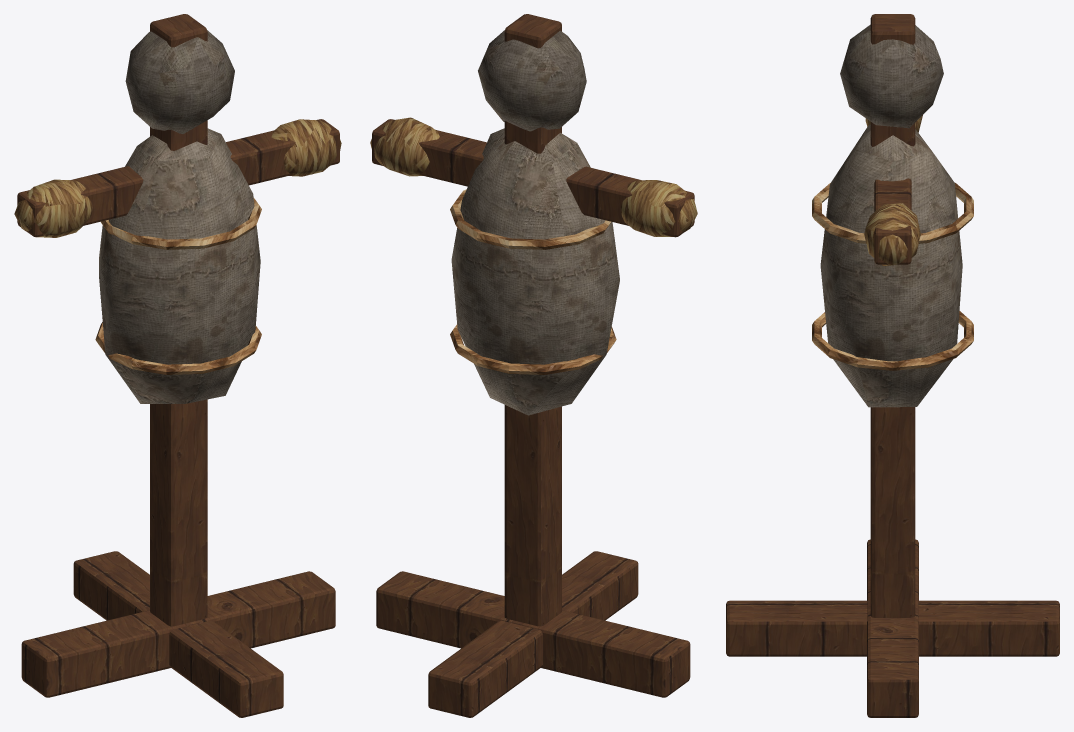
File: training_dummy__plank_root.glb
3 renders of one model, left to right at view 1: azimuth 30°, elevation 25°; view 2: azimuth 150°, elevation 25°; view 3: azimuth 270°, elevation 25°, orthographic.
Parts seen in each view (by area): view 1: model; view 2: model; view 3: model.
Part boxes in pixels (bbox=[...]): model: bbox=[14, 14, 341, 717]; model: bbox=[370, 14, 697, 717]; model: bbox=[726, 14, 1059, 717].
Size of the model in its own units: 0.9865 by 1.87 by 0.9.
6 materials, 6 textured.
